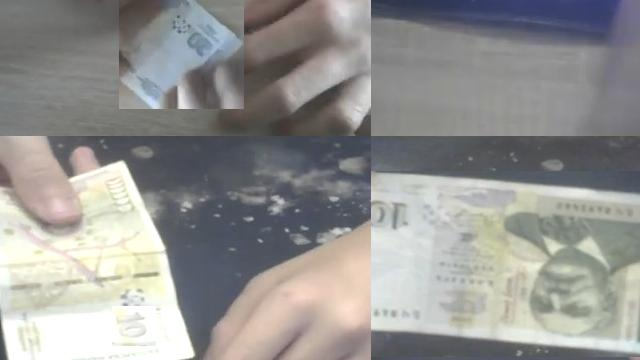10leva: (371, 171, 640, 356), (113, 307, 156, 346)
20leva: (119, 0, 244, 109)
